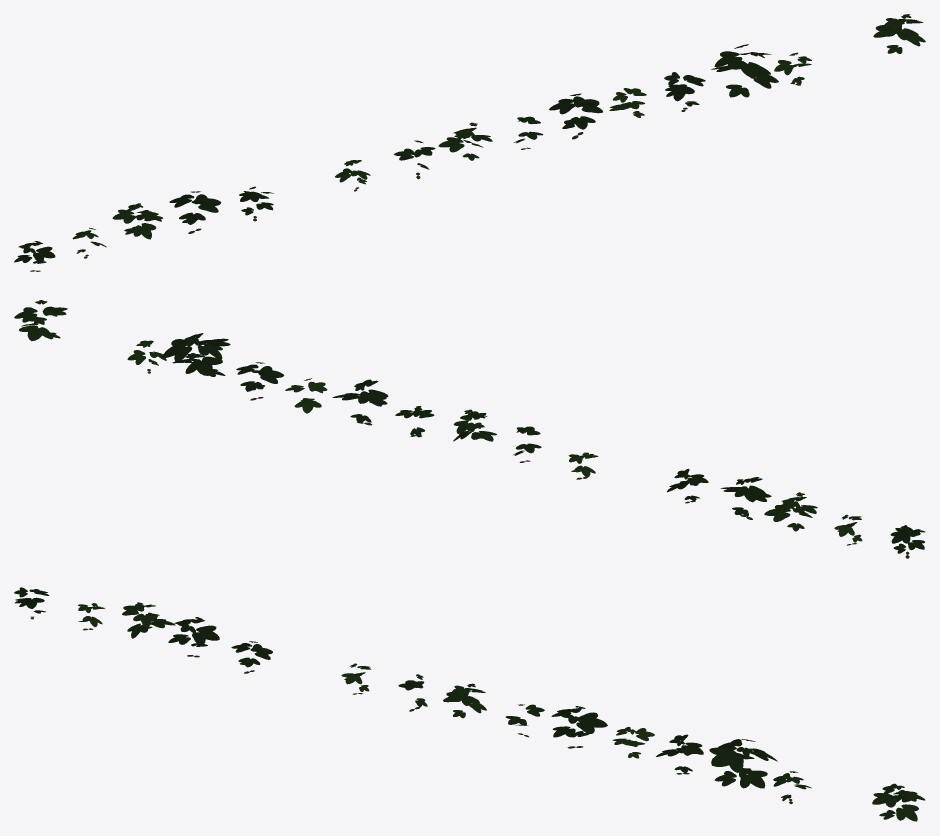
Rendered from ROW_01_SEG3_foliage.dae.
3 views of the same model, one above another, from view 1: azimuth 30°, elevation 25°; view 2: azimuth 150°, elevation 25°; view 3: azimuth 330°, elevation 25° (orthographic).
Parts seen in each view (by area): view 1: ROW_01_SEG3_foliage; view 2: ROW_01_SEG3_foliage; view 3: ROW_01_SEG3_foliage.
Boxes of the visible parts, x1=… form: ROW_01_SEG3_foliage: x1=14, y1=14, x2=925, y2=271; ROW_01_SEG3_foliage: x1=14, y1=300, x2=925, y2=558; ROW_01_SEG3_foliage: x1=14, y1=587, x2=925, y2=821.
Size of the model in its own units: 5.08 by 0.3555 by 0.264.
